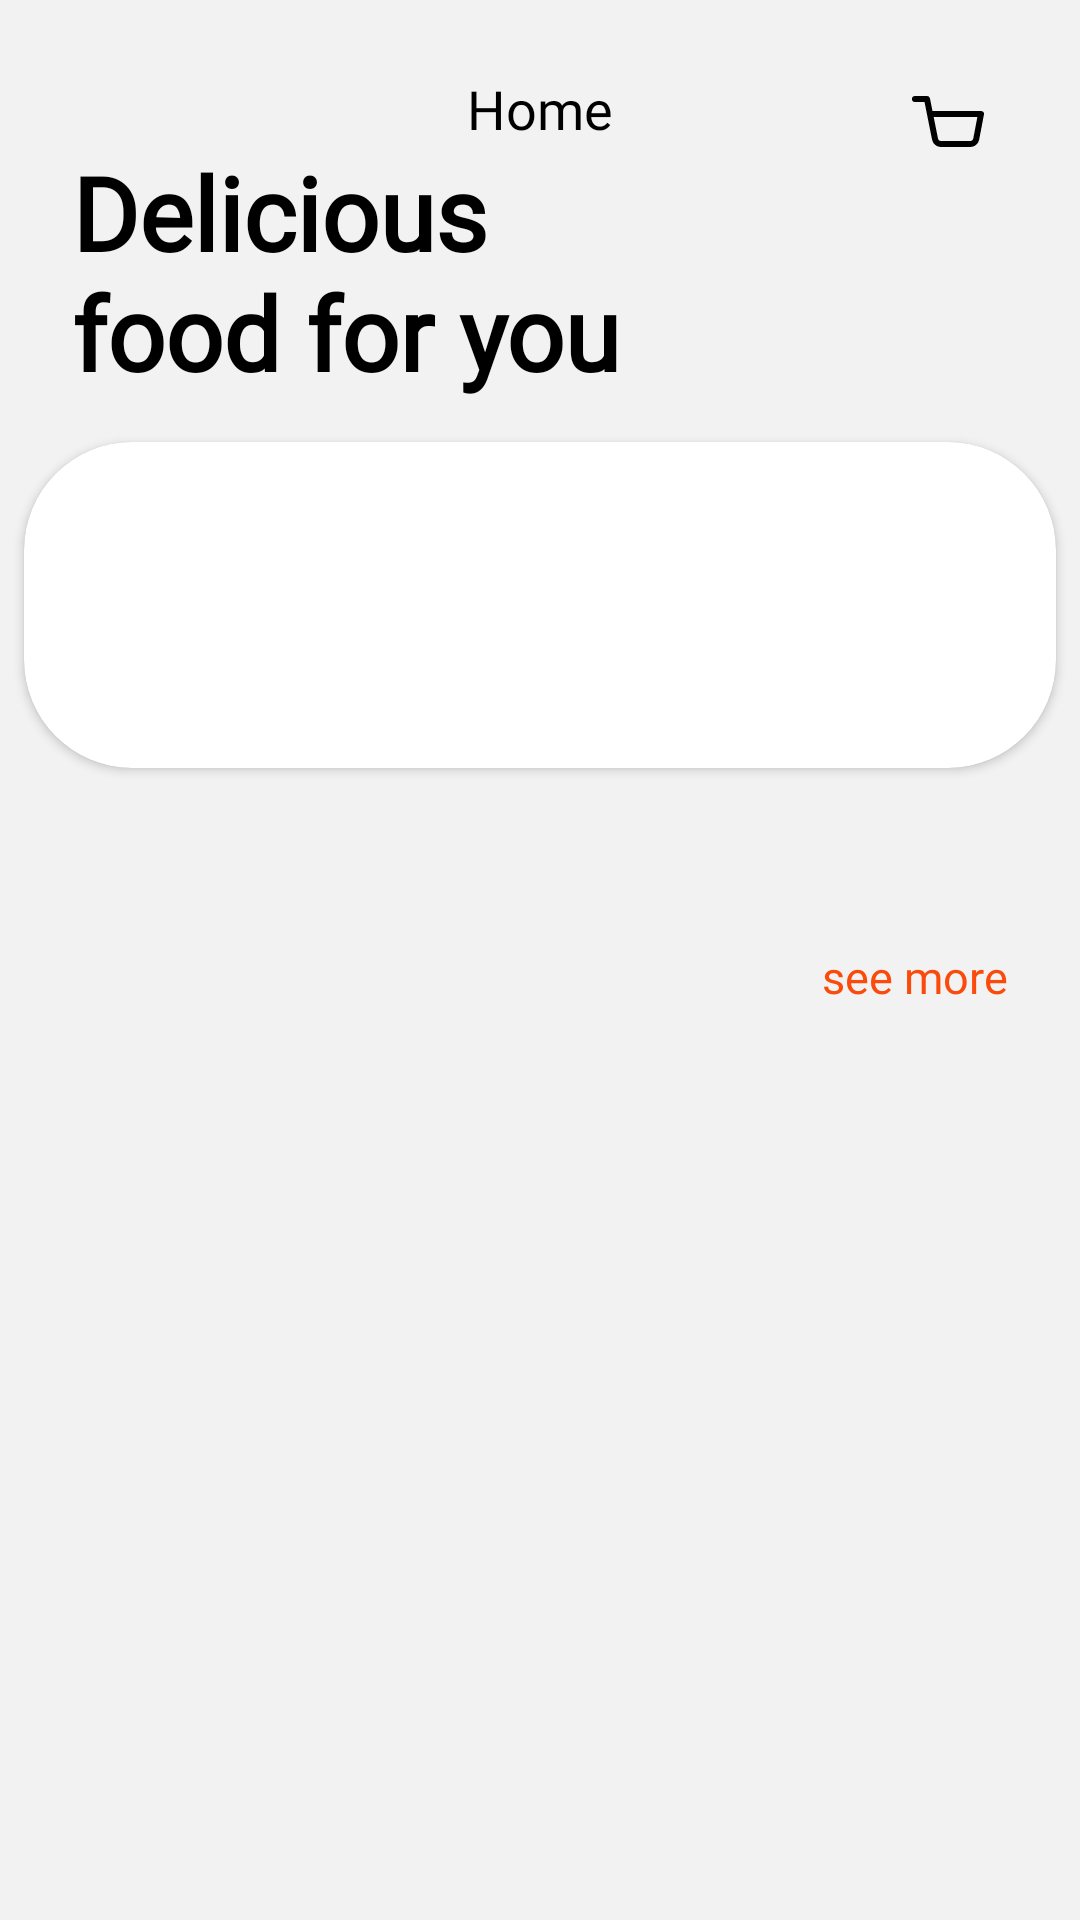

Locate icon controls on the screen. Image size 1080 x 1920, boxes as (x1, y1, x2, y2).
screen basket: (912, 96, 984, 147)
